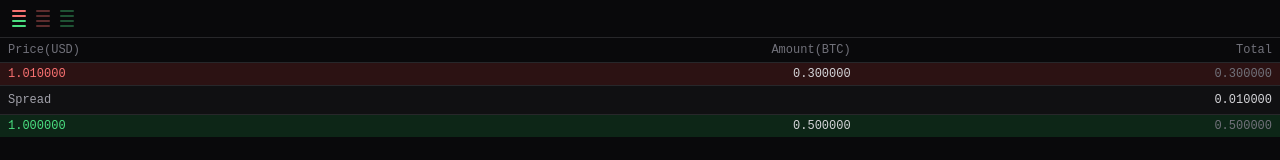
it: OrderBook › switching to bids-only view hides asks section
Click the button named "Show bids" at (67, 18), box [56,6,78,31]
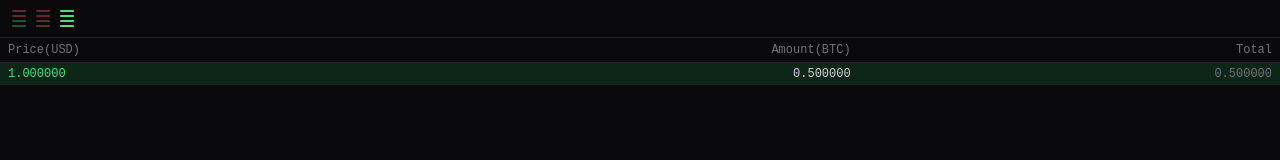
Expected: the text "1.000000" is shown, [8,67,66,81]
Expected: the text "1.010000" is gone
